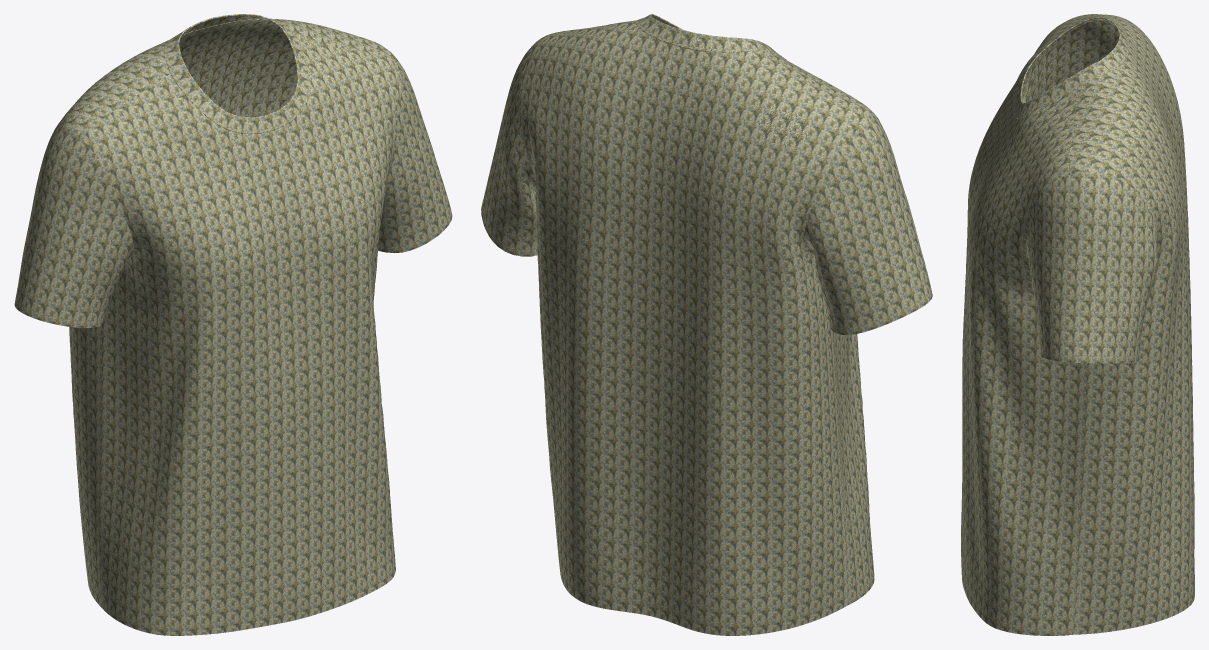
File: short sleeve crew shirt.glb
3 renders of one model, left to right at view 1: azimuth 30°, elevation 25°; view 2: azimuth 150°, elevation 25°; view 3: azimuth 270°, elevation 25°, orthographic. The views are drawn at different scales.
Visible parts, largest first — view 1: short sleeve crew shirt; view 2: short sleeve crew shirt; view 3: short sleeve crew shirt.
Boxes of the visible parts, <box> form: short sleeve crew shirt: <box>14,14,452,635</box>; short sleeve crew shirt: <box>481,14,932,635</box>; short sleeve crew shirt: <box>961,14,1194,635</box>.
Size of the model in its own units: 56.69 by 69.19 by 27.2.
Materials: 6 (6 with a texture image).
